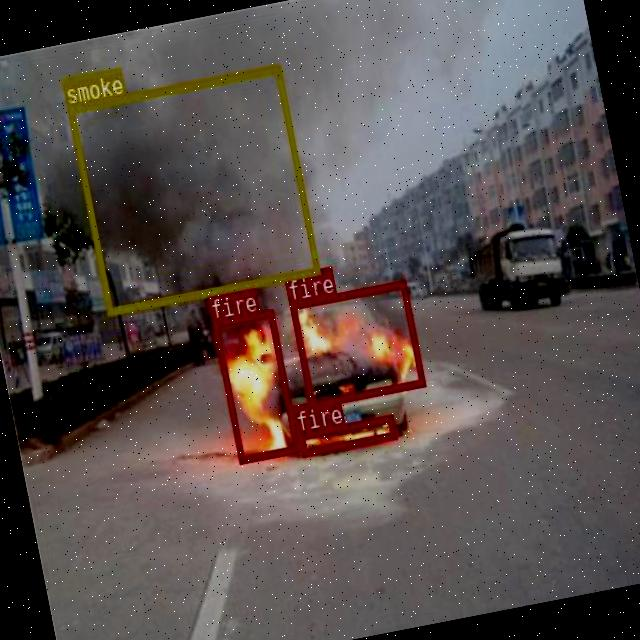fire: (288, 279, 424, 408), (210, 308, 300, 462), (296, 412, 396, 456)
smoke: (66, 63, 319, 314)
